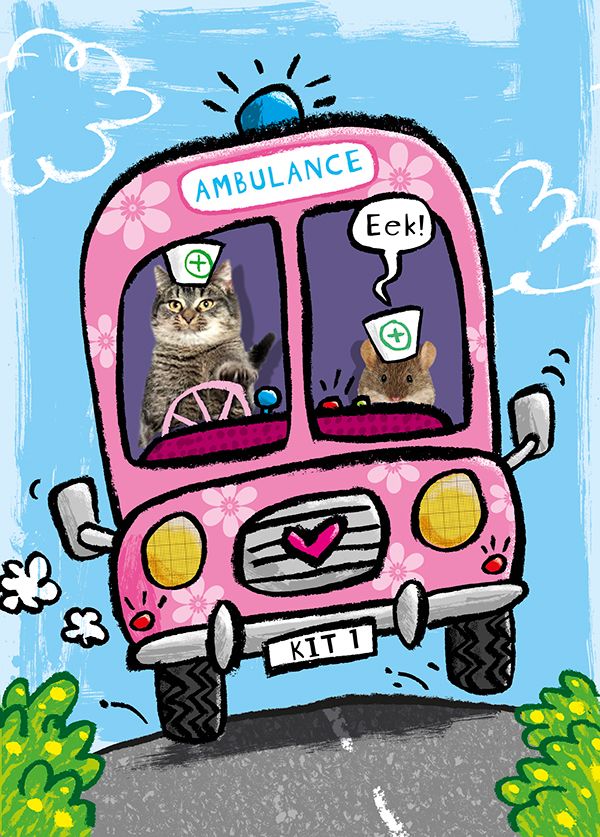car: (100, 100, 525, 750)
cat: (141, 263, 284, 460)
